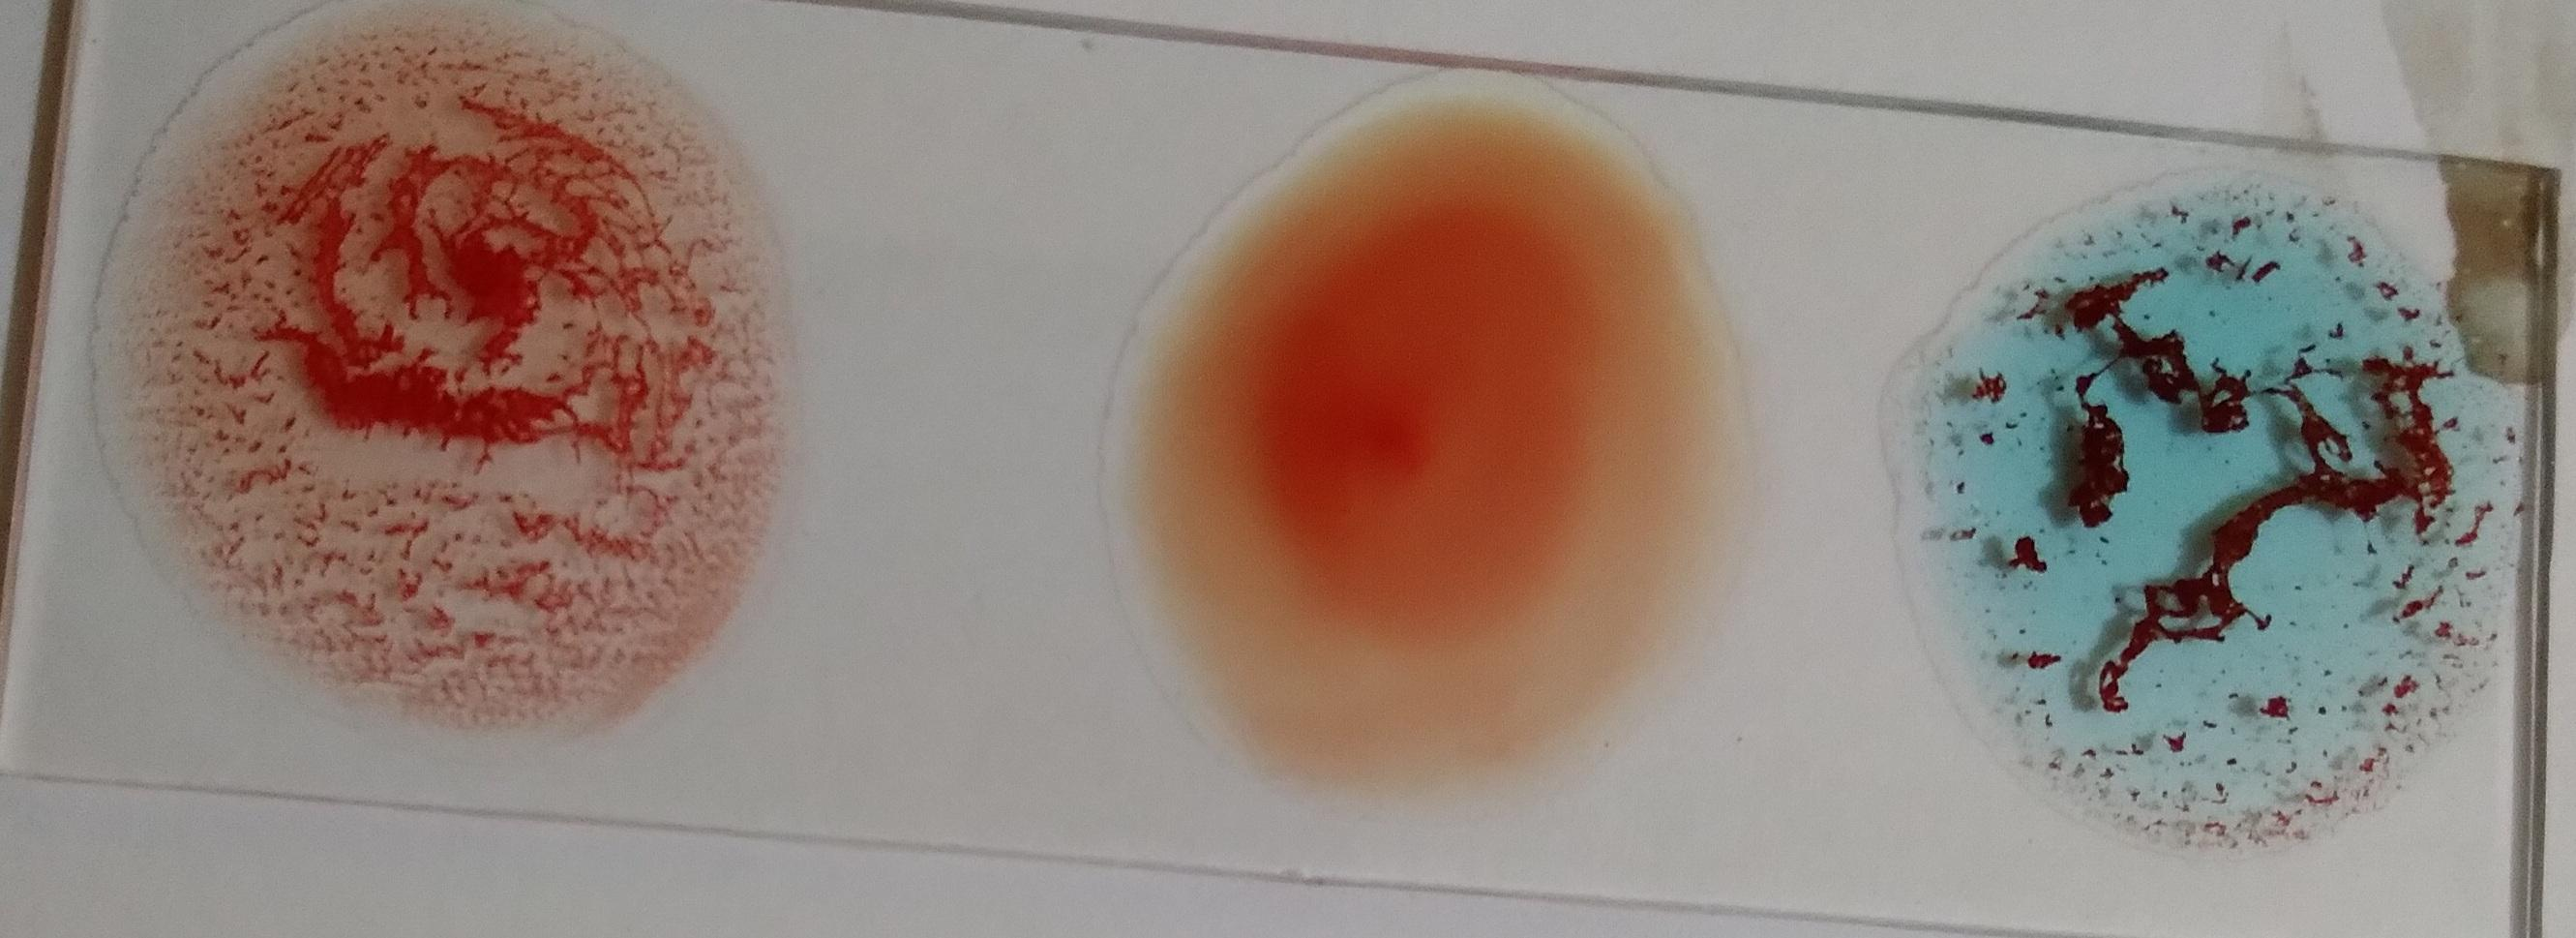A: (1925, 174, 2507, 838)
D: (117, 18, 825, 721)
